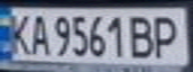1: (106, 12, 130, 59)
5: (66, 11, 90, 57)
6: (87, 12, 109, 59)
9: (48, 11, 72, 57)
A: (27, 11, 51, 56)
B: (124, 12, 160, 60)
K: (3, 10, 33, 56)
P: (148, 11, 187, 60)
